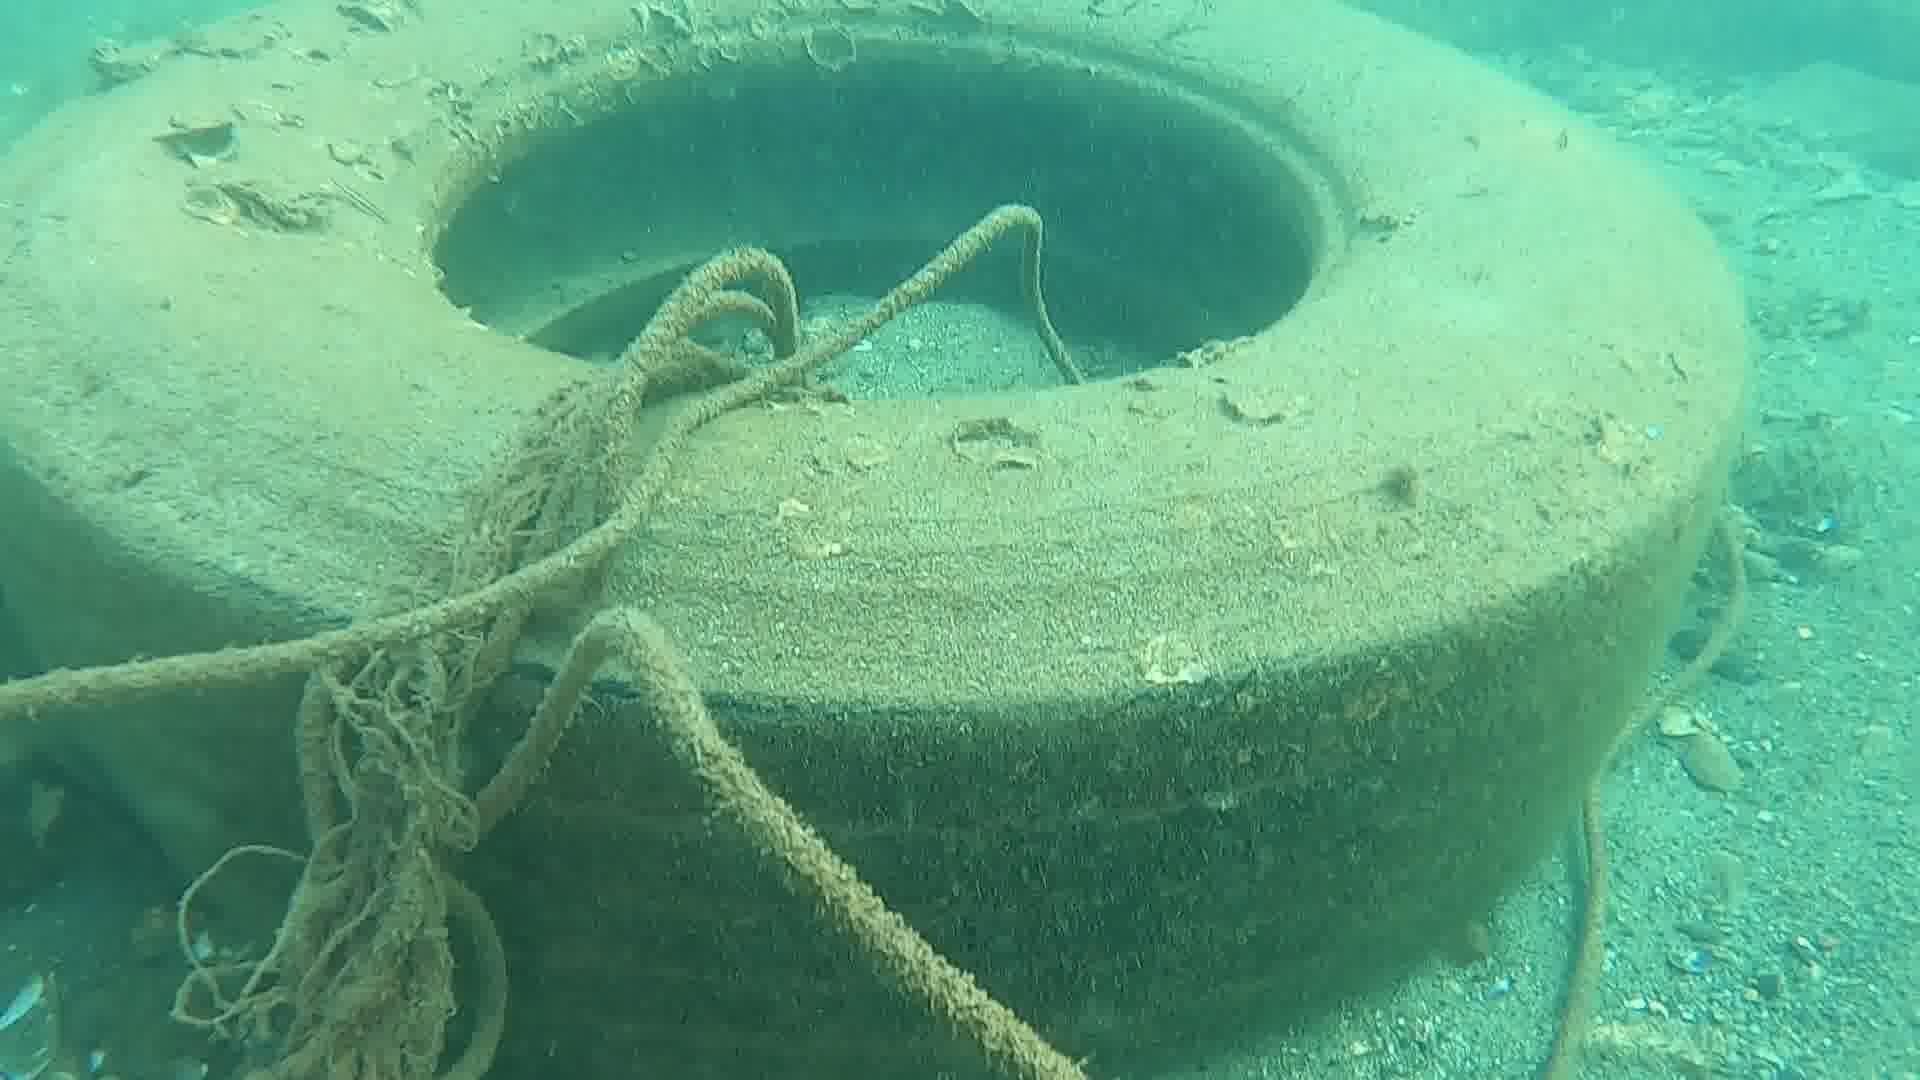bundle of ropes: (0, 200, 1088, 1080)
rope: (1526, 514, 1749, 1080)
tire: (0, 0, 1753, 1080)
